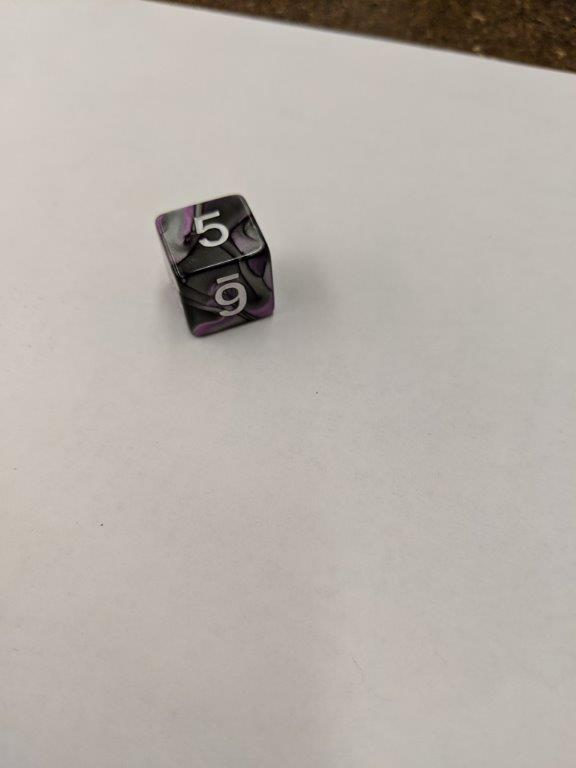d6-5: (155, 193, 276, 339)
